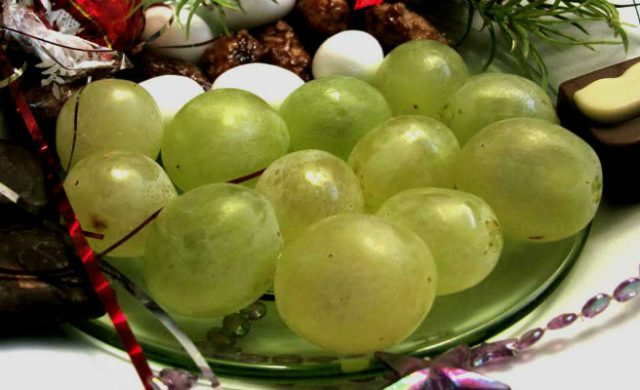Green grapes: (72, 79, 598, 313)
